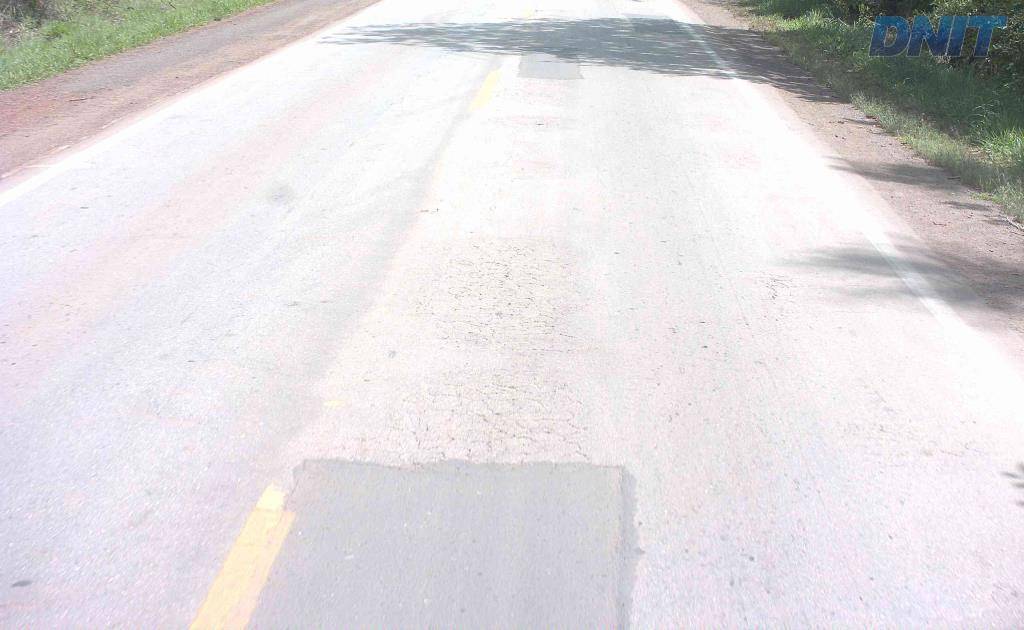crack: (533, 303, 580, 345)
